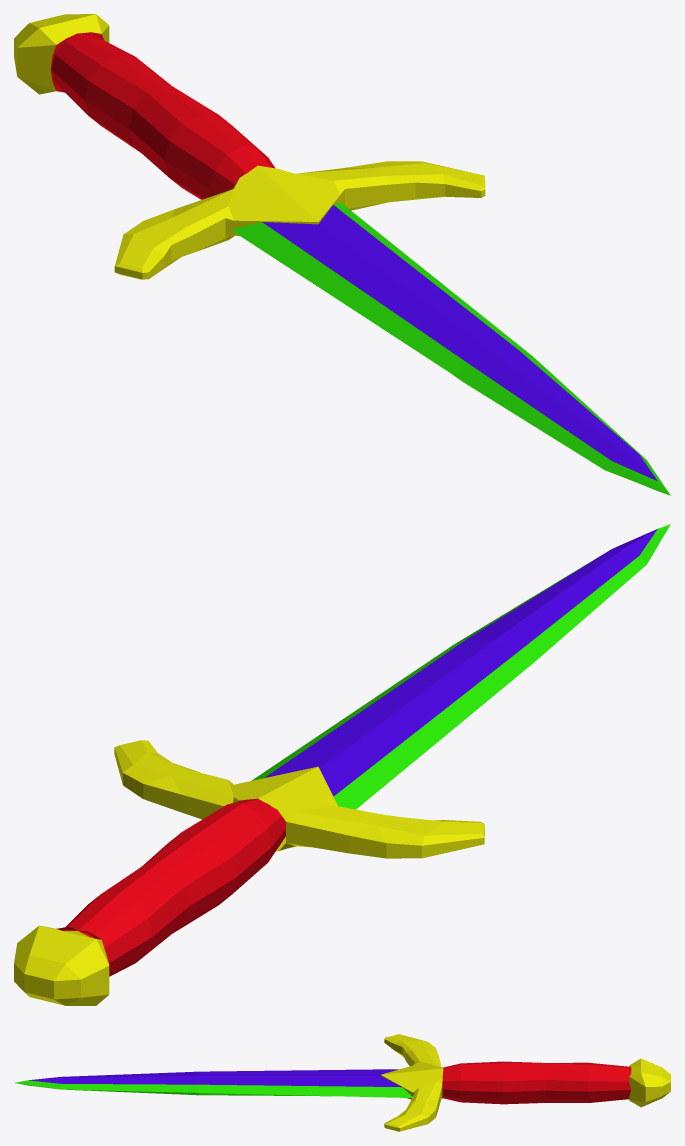
Rendered from Dagger.fbx.
The picture shows the model from 3 angles, top to bottom: view 1: azimuth 30°, elevation 25°; view 2: azimuth 150°, elevation 25°; view 3: azimuth 270°, elevation 25°; orthographic projection. The views are drawn at different scales.
Visible parts, largest first — view 1: Dagger; view 2: Dagger; view 3: Dagger.
Boxes of the visible parts, box(x1,y1,x2,y2) form: Dagger: box(14, 14, 670, 495); Dagger: box(14, 524, 670, 1005); Dagger: box(14, 1034, 670, 1131).
Bounding box in the file's own units: 68.3 × 13.12 × 202.
